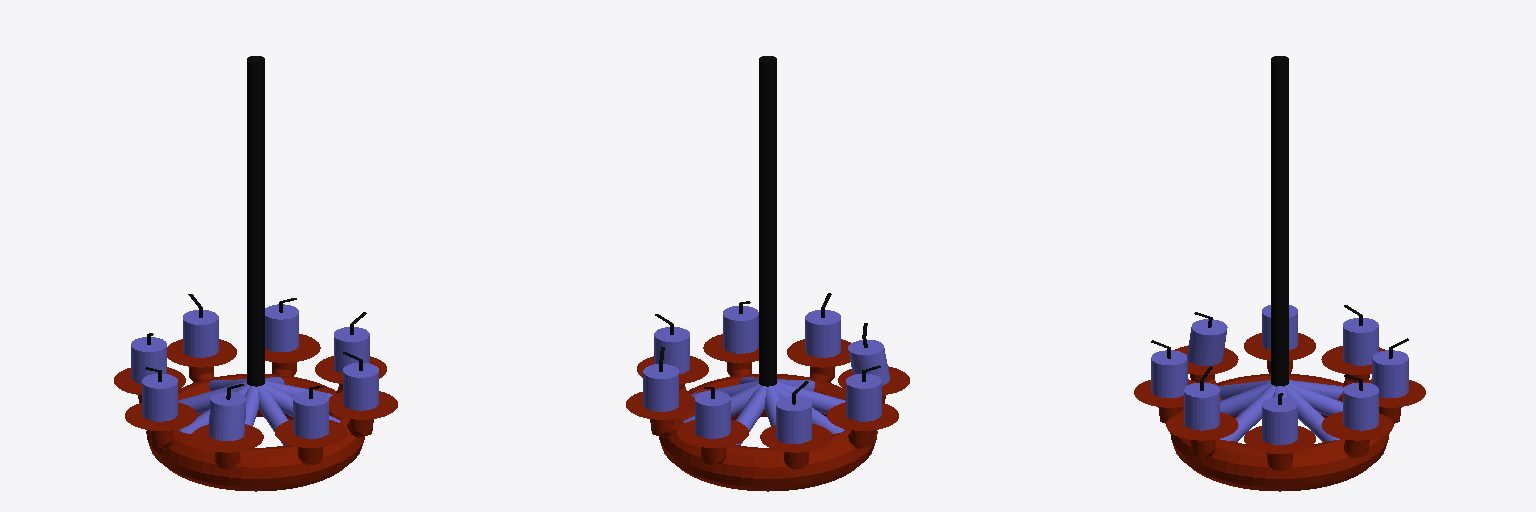
File: chandelier.obj
3 views of the same model, side by side, from view 1: azimuth 30°, elevation 25°; view 2: azimuth 150°, elevation 25°; view 3: azimuth 270°, elevation 25° (orthographic).
Visible parts, largest first — view 1: Torus, Cylinder_Cylinder.003, Cylinder.010_Cylinder.013, Cylinder.015_Cylinder.018, Cylinder.012_Cylinder.015, Cylinder.009_Cylinder.012, Cylinder.011_Cylinder.014, Cylinder.014_Cylinder.017, Circle.001, Circle, Circle.002, Circle.003 (+8 smaller); view 2: Torus, Cylinder_Cylinder.003, Cylinder.011_Cylinder.014, Cylinder.014_Cylinder.017, Cylinder.016_Cylinder.019, Cylinder.009_Cylinder.012, Cylinder.012_Cylinder.015, Cylinder.015_Cylinder.018, Circle, Circle.006, Circle.007, Cylinder.013_Cylinder.016 (+8 smaller); view 3: Torus, Cylinder_Cylinder.003, Cylinder.012_Cylinder.015, Cylinder.011_Cylinder.014, Cylinder.014_Cylinder.017, Cylinder.015_Cylinder.018, Cylinder.013_Cylinder.016, Cylinder.010_Cylinder.013, Cylinder.016_Cylinder.019, Circle.005, Circle.003, Circle.004 (+10 smaller).
Part boxes in pixels (x1,y1,x2,y2): Torus: (146,374,364,491); Cylinder_Cylinder.003: (247,56,264,386); Cylinder.010_Cylinder.013: (209,384,246,440); Cylinder.015_Cylinder.018: (183,294,218,357); Cylinder.012_Cylinder.015: (343,352,378,410); Cylinder.009_Cylinder.012: (142,367,177,421); Cylinder.011_Cylinder.014: (293,386,328,438); Cylinder.014_Cylinder.017: (265,298,298,351); Circle.001: (191,424,263,468); Circle: (125,402,196,448); Circle.002: (275,420,346,464); Circle.003: (329,391,397,437); Torus: (659,374,877,491); Cylinder_Cylinder.003: (759,56,776,386); Cylinder.011_Cylinder.014: (805,293,840,357); Cylinder.014_Cylinder.017: (643,347,678,411); Cylinder.016_Cylinder.019: (776,381,811,443); Cylinder.009_Cylinder.012: (846,365,881,421); Cylinder.012_Cylinder.015: (723,301,758,353); Cylinder.015_Cylinder.018: (695,387,730,438); Circle: (827,402,898,448); Circle.006: (677,420,748,464); Circle.007: (760,424,832,468); Cylinder.013_Cylinder.016: (654,314,689,373); Torus: (1170,374,1389,491); Cylinder_Cylinder.003: (1271,56,1288,386); Cylinder.012_Cylinder.015: (1184,366,1219,430); Cylinder.011_Cylinder.014: (1151,340,1187,397); Cylinder.014_Cylinder.017: (1343,375,1378,430); Cylinder.015_Cylinder.018: (1372,338,1408,397); Cylinder.013_Cylinder.016: (1262,393,1297,444); Cylinder.010_Cylinder.013: (1187,312,1227,365); Cylinder.016_Cylinder.019: (1343,305,1378,365); Circle.005: (1321,411,1393,457); Circle.003: (1166,412,1238,457); Circle.004: (1244,426,1315,470).
Bounding box in the file's own units: 8.06 × 11.96 × 8.06.